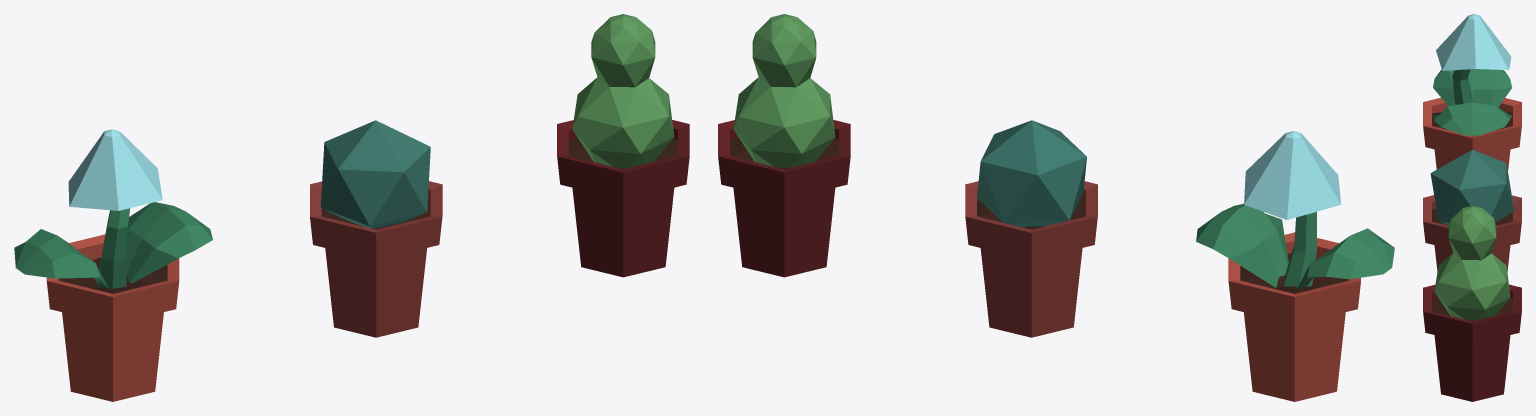
The model's file is plants.glb.
3 renders of one model, left to right at view 1: azimuth 30°, elevation 25°; view 2: azimuth 150°, elevation 25°; view 3: azimuth 270°, elevation 25°, orthographic. The views are drawn at different scales.
Parts seen in each view (by area): view 1: shroom, pot, pottree, pottoo, caccts, bolbush; view 2: shroom, pottree, pot, pottoo, caccts, bolbush; view 3: shroom, pottree, caccts, bolbush, pot, pottoo.
Part boxes in pixels (x1,y1,x2,y2): shroom: [14, 129, 212, 288]; pot: [46, 234, 179, 401]; pottree: [557, 120, 689, 277]; pottoo: [310, 181, 442, 337]; caccts: [572, 14, 674, 168]; bolbush: [320, 120, 430, 228]; shroom: [1196, 131, 1394, 289]; pottree: [718, 120, 850, 277]; pot: [1228, 232, 1360, 401]; pottoo: [965, 181, 1097, 337]; caccts: [733, 14, 835, 167]; bolbush: [977, 120, 1086, 227]; shroom: [1433, 14, 1512, 135]; pottree: [1423, 284, 1521, 401]; caccts: [1434, 205, 1510, 320]; bolbush: [1430, 150, 1514, 225]; pot: [1423, 97, 1521, 170]; pottoo: [1423, 195, 1521, 271].
Bounding box in the file's own units: 1229 × 439 × 211.
1 material, 1 textured.
